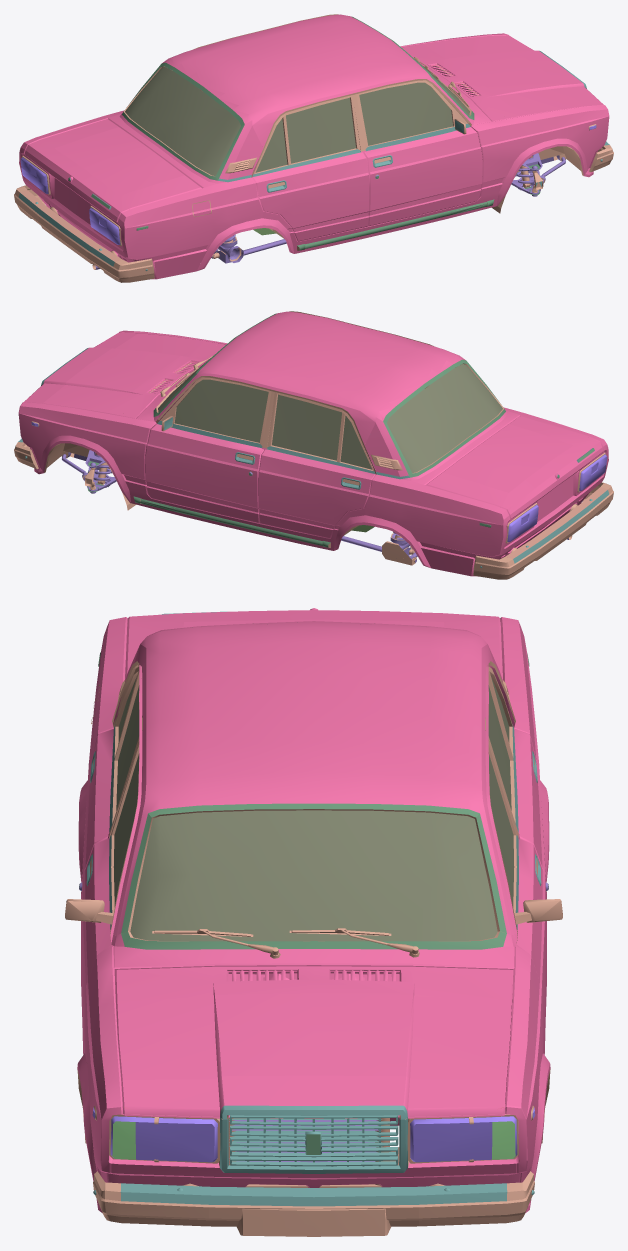
File: VAZ-2107.obj
3 renders of one model, top to bottom at view 1: azimuth 30°, elevation 25°; view 2: azimuth 150°, elevation 25°; view 3: azimuth 270°, elevation 25°, orthographic. The views are drawn at different scales.
Parts seen in each view (by area): view 1: vaz2107.smd.016, glass.smd, vaz2107.smd, vaz2107.smd.015, zad_bump.smd, vaz2107.smd.014, vaz2107.smd.019, vaz2107.smd.008, zad_bump.smd.002, zad_bump.smd.003; view 2: vaz2107.smd.016, glass.smd, vaz2107.smd, vaz2107.smd.015, zad_bump.smd, vaz2107.smd.019, vaz2107.smd.014, vaz2107.smd.008, zad_bump.smd.002, zad_bump.smd.003; view 3: vaz2107.smd.016, glass.smd, vaz2107.smd.019, vaz2107.smd, zad_bump.smd, vaz2107.smd.008, zad_bump.smd.003, vaz2107.smd.015, vaz2107.smd.001, vaz2107.smd.014.
Part boxes in pixels (left/top/right/bottom): vaz2107.smd.016: left=19, top=14, right=609, bottom=279; glass.smd: left=125, top=61, right=469, bottom=175; vaz2107.smd: left=21, top=14, right=596, bottom=269; vaz2107.smd.015: left=68, top=16, right=540, bottom=250; zad_bump.smd: left=14, top=145, right=613, bottom=282; vaz2107.smd.014: left=95, top=153, right=565, bottom=269; vaz2107.smd.019: left=69, top=50, right=586, bottom=209; vaz2107.smd.008: left=20, top=125, right=596, bottom=244; zad_bump.smd.002: left=20, top=190, right=122, bottom=261; zad_bump.smd.003: left=18, top=141, right=609, bottom=270; vaz2107.smd.016: left=18, top=311, right=608, bottom=576; glass.smd: left=158, top=358, right=502, bottom=472; vaz2107.smd: left=31, top=311, right=606, bottom=565; vaz2107.smd.015: left=88, top=313, right=594, bottom=547; zad_bump.smd: left=14, top=442, right=613, bottom=579; vaz2107.smd.019: left=41, top=348, right=593, bottom=489; vaz2107.smd.014: left=62, top=450, right=568, bottom=562; vaz2107.smd.008: left=31, top=422, right=607, bottom=541; zad_bump.smd.002: left=505, top=487, right=607, bottom=558; zad_bump.smd.003: left=18, top=438, right=609, bottom=567; vaz2107.smd.016: left=77, top=608, right=550, bottom=1213; glass.smd: left=113, top=676, right=514, bottom=941; vaz2107.smd.019: left=86, top=611, right=541, bottom=1173; vaz2107.smd: left=65, top=661, right=562, bottom=1187; zad_bump.smd: left=93, top=1171, right=534, bottom=1236; vaz2107.smd.008: left=92, top=1107, right=535, bottom=1162; zad_bump.smd.003: left=93, top=1183, right=534, bottom=1206; vaz2107.smd.015: left=79, top=652, right=548, bottom=1154; vaz2107.smd.001: left=112, top=1121, right=515, bottom=1159; vaz2107.smd.014: left=79, top=882, right=548, bottom=1163.
Size of the model in its own units: 3.61 by 1.08 by 1.54.
